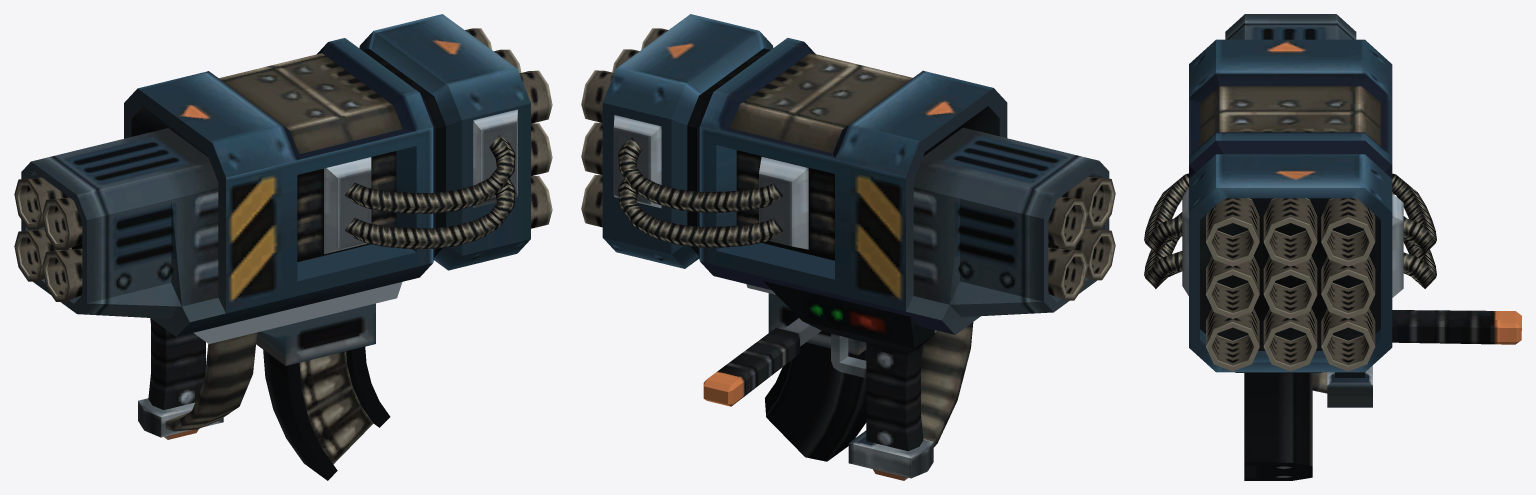
File: RYNO.obj
3 renders of one model, left to right at view 1: azimuth 30°, elevation 25°; view 2: azimuth 150°, elevation 25°; view 3: azimuth 270°, elevation 25°, orthographic.
Parts seen in each view (by area): view 1: Mesh0; view 2: Mesh0; view 3: Mesh0.
Boxes of the visible parts, <box> form: Mesh0: <box>14,14,552,480</box>; Mesh0: <box>581,14,1115,480</box>; Mesh0: <box>1144,14,1521,480</box>.
Bounding box in the file's own units: 30.06 × 23.32 × 21.11.
